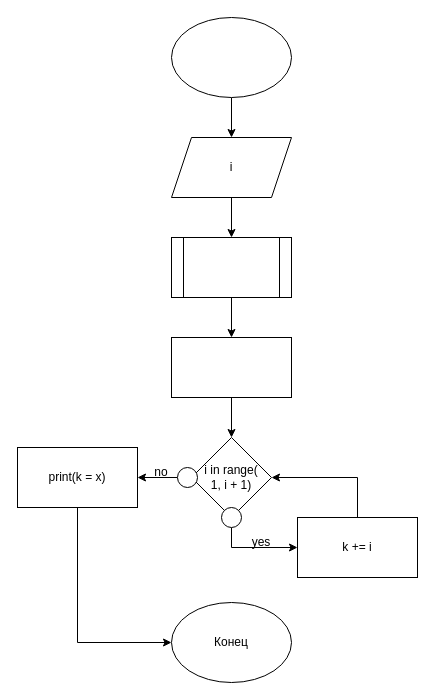
This 435x700 diagram has some shape labels left out. Here are the shapes that lost their labels. From the top down, the centre of each, then its label:
At pixel 231 57: "Начало".
At pixel 231 267: "example(i)".
At pixel 231 367: "k = 0 x = i * (i + 1) // 2".
